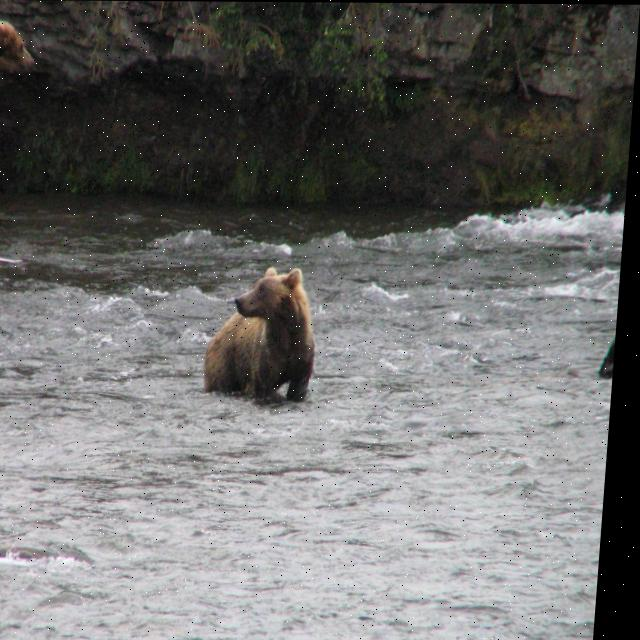bear face: (211, 264, 325, 402)
